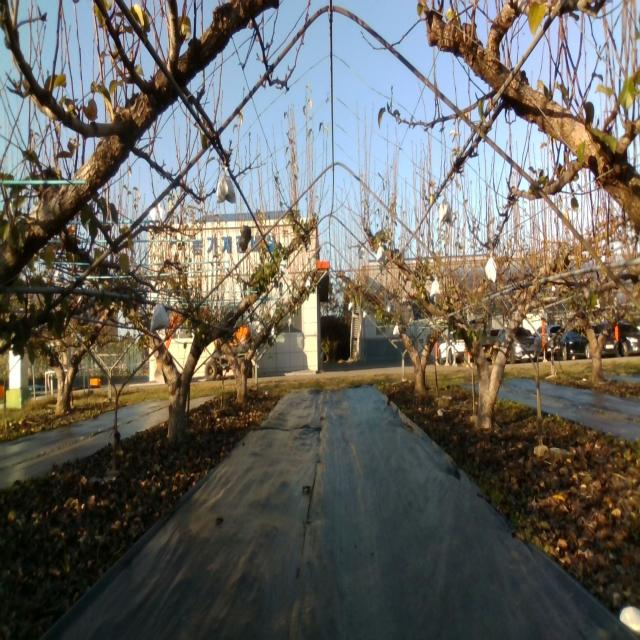pearbags: (215, 164, 235, 205), (150, 301, 170, 333), (486, 253, 498, 284), (439, 198, 451, 224), (430, 276, 441, 300)
